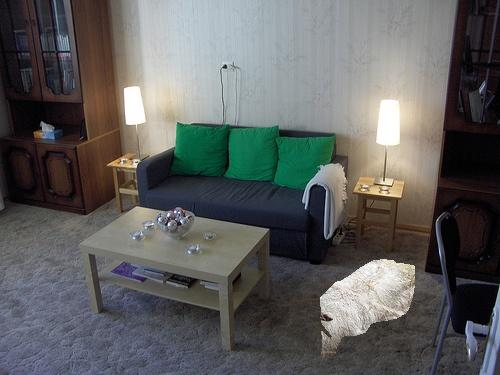tampered: (307, 260, 415, 359)
